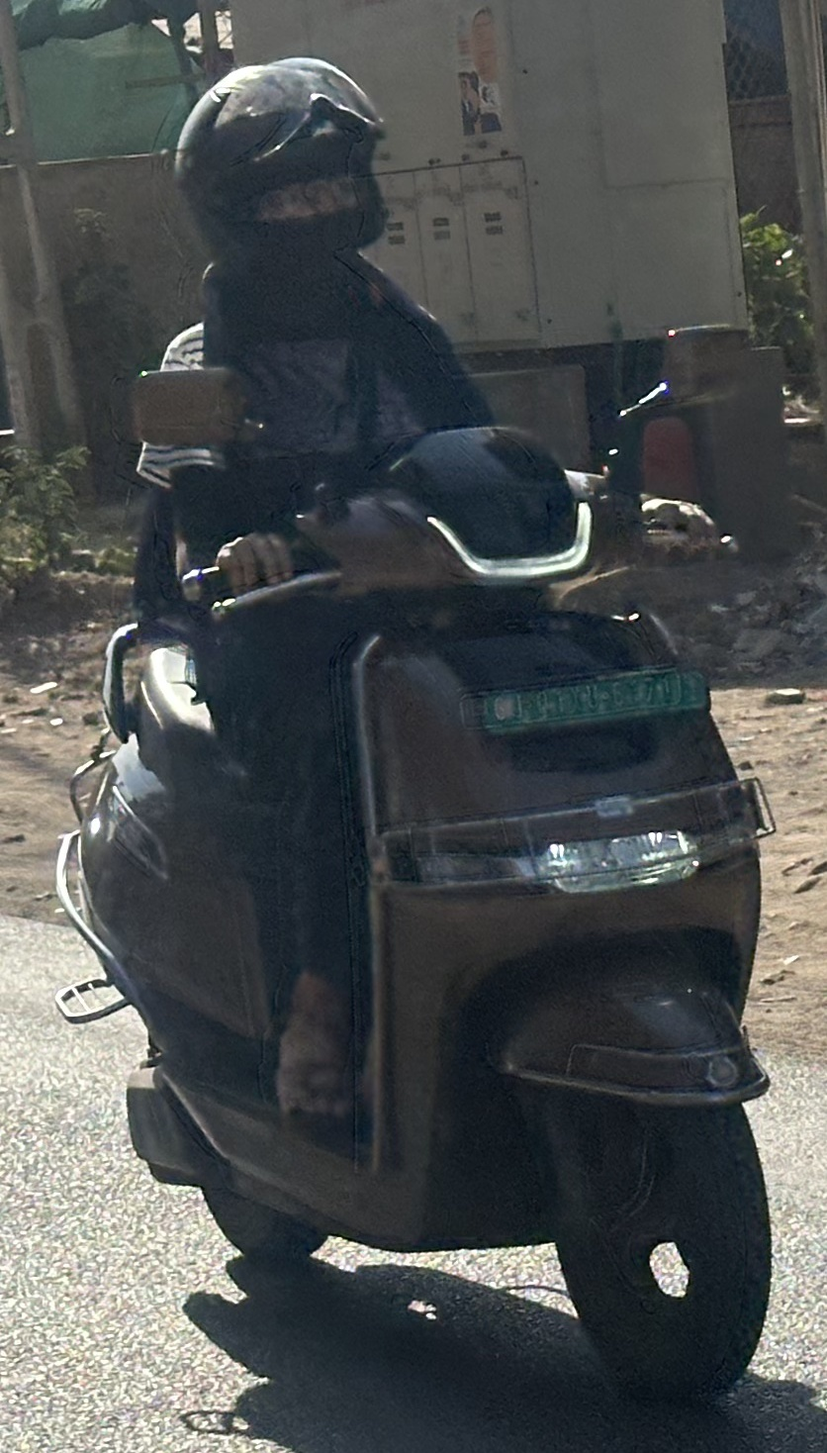BikeWithRider: (31, 13, 827, 1440)
Helmet: (163, 48, 421, 303)
